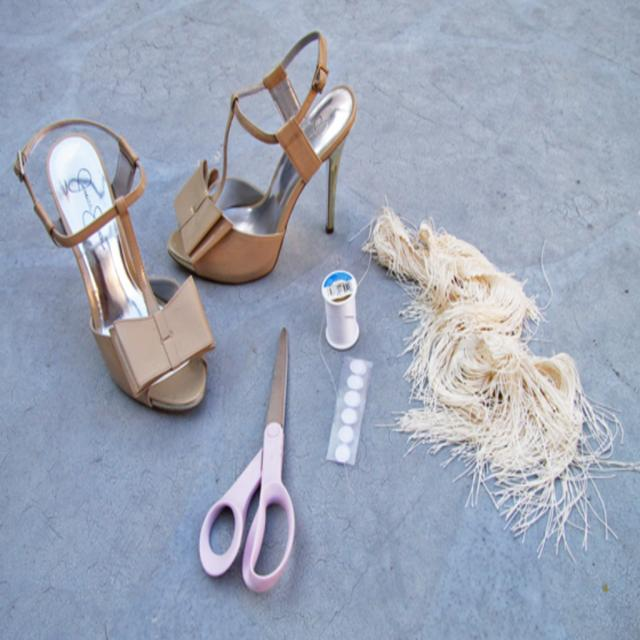scissors: (198, 326, 295, 593)
